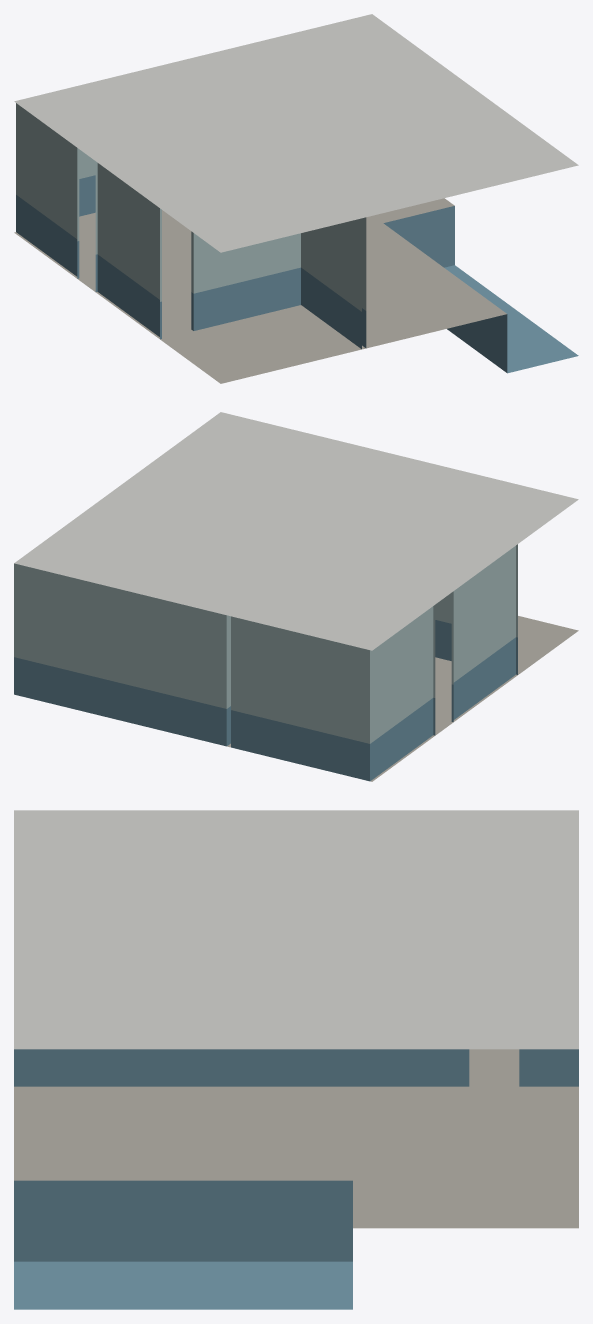
Rendered from chunk_1_0.glb.
3 renders of one model, top to bottom at view 1: azimuth 30°, elevation 25°; view 2: azimuth 150°, elevation 25°; view 3: azimuth 270°, elevation 25°, orthographic. The views are drawn at different scales.
Visible parts, largest first — view 1: chunk_1_0; view 2: chunk_1_0; view 3: chunk_1_0.
Boxes of the visible parts, x1=… form: chunk_1_0: x1=14, y1=14, x2=578, y2=383; chunk_1_0: x1=14, y1=412, x2=578, y2=781; chunk_1_0: x1=14, y1=810, x2=578, y2=1309.
Size of the model in its own units: 12 by 6.1 by 12.
